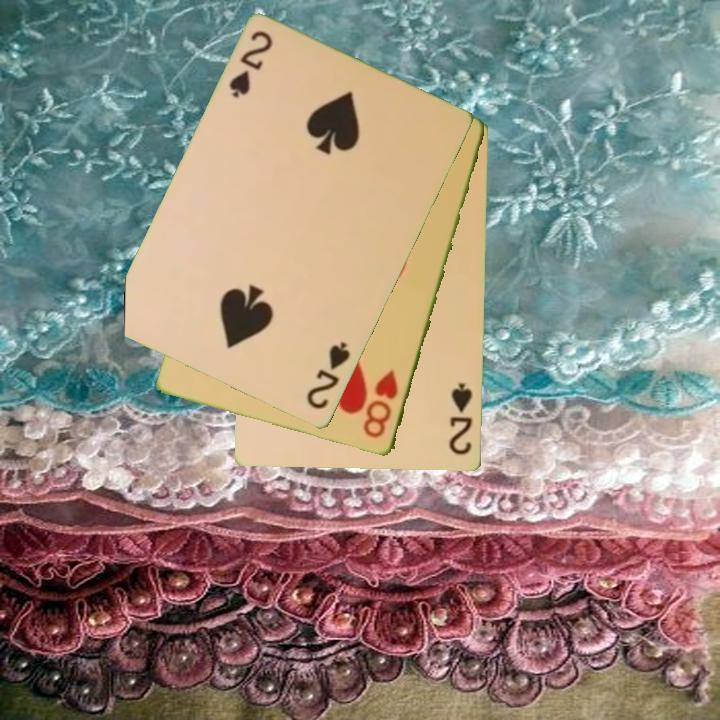2s: (303, 338, 354, 413), (225, 27, 276, 101), (446, 380, 476, 458)
8h: (360, 367, 402, 442)
